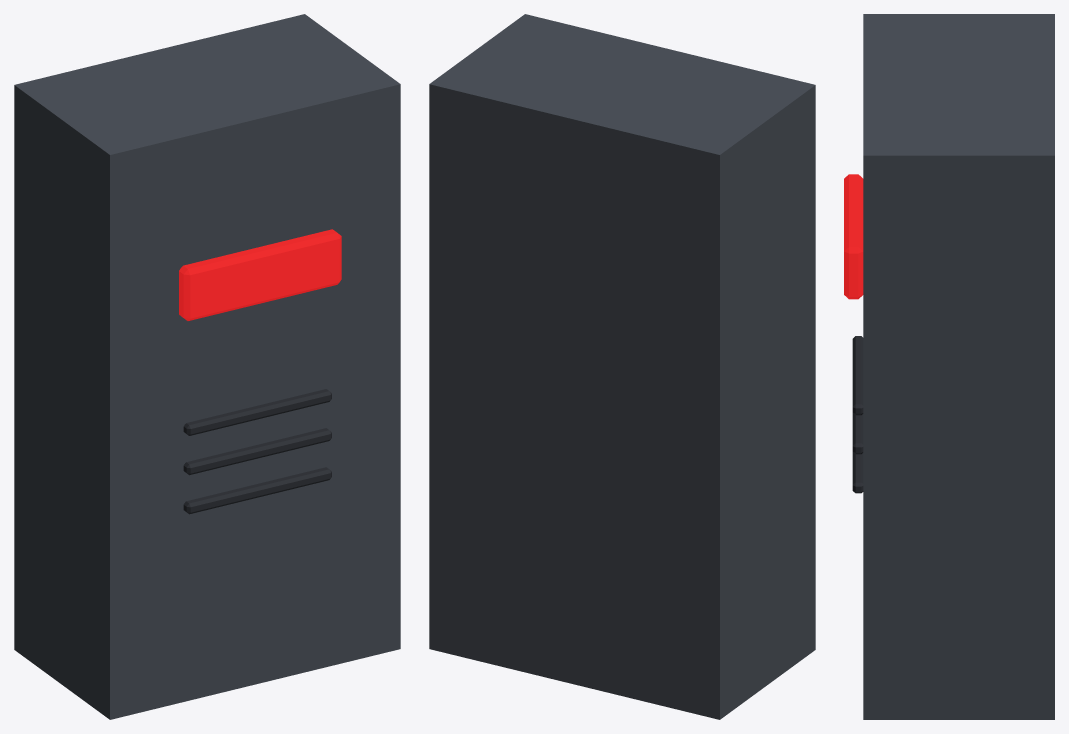
Rendered from switch.glb.
3 renders of one model, left to right at view 1: azimuth 30°, elevation 25°; view 2: azimuth 150°, elevation 25°; view 3: azimuth 270°, elevation 25°, orthographic.
Visible parts, largest first — view 1: Gate_switch, Switch_status, Switch_vent (×3); view 2: Gate_switch; view 3: Gate_switch, Switch_status, Switch_vent (×3).
Boxes of the visible parts, <box> form: Gate_switch: <box>14,14,400,719</box>; Switch_status: <box>179,229,341,320</box>; Switch_vent (×3): <box>183,389,331,514</box>; Gate_switch: <box>429,14,815,719</box>; Gate_switch: <box>863,14,1054,719</box>; Switch_status: <box>844,174,863,299</box>; Switch_vent (×3): <box>852,336,863,493</box>.
Size of the model in its own units: 0.7 by 1.3 by 0.44.
